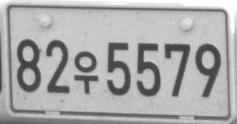2: (44, 39, 70, 93)
5: (135, 42, 161, 97), (105, 42, 131, 96)
7: (163, 43, 191, 97)
8: (15, 38, 41, 93)
9: (194, 42, 222, 98)
우: (73, 50, 99, 94)
